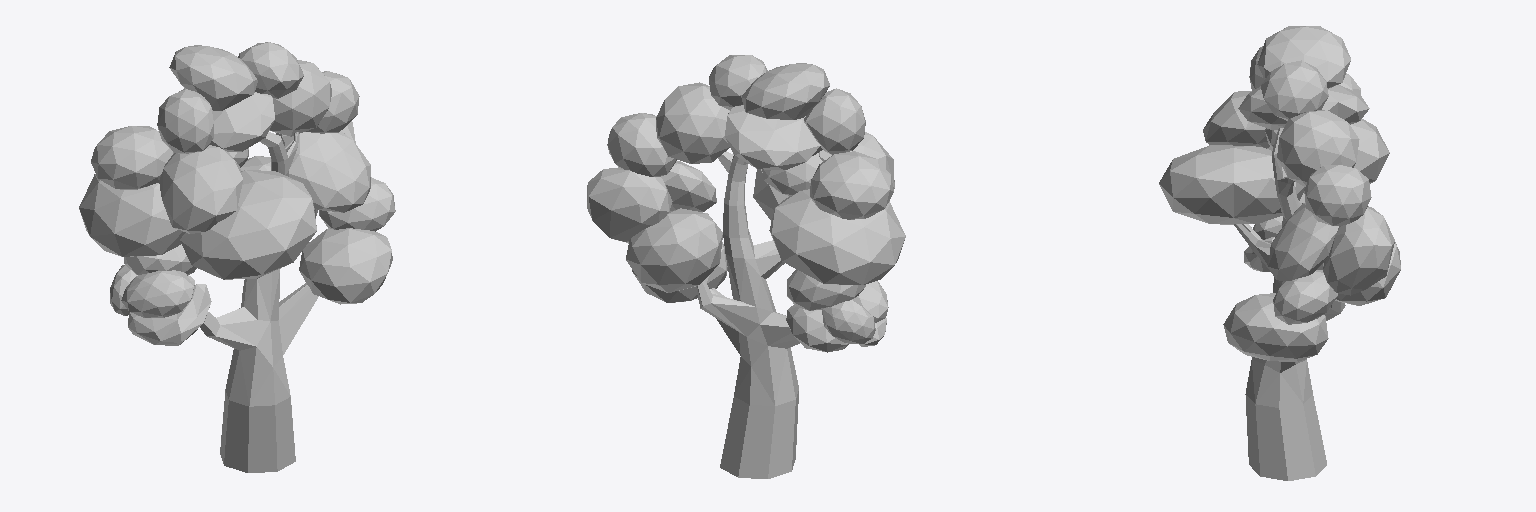
File: Oak_tree.obj
The picture shows the model from 3 angles: view 1: azimuth 30°, elevation 25°; view 2: azimuth 150°, elevation 25°; view 3: azimuth 270°, elevation 25°; orthographic projection.
Parts seen in each view (by area): view 1: Oak_Cylinder.004; view 2: Oak_Cylinder.004; view 3: Oak_Cylinder.004.
Part boxes in pixels (x1,y1,x2,y2): Oak_Cylinder.004: (79,42,395,472); Oak_Cylinder.004: (587,55,905,478); Oak_Cylinder.004: (1159,26,1400,480).
Size of the model in its own units: 3.96 by 5.31 by 2.84.